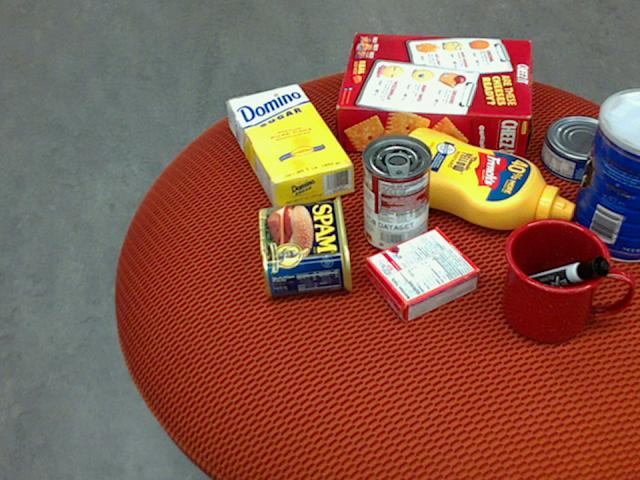cracker_box: (335, 31, 530, 159)
gelatin_box: (362, 229, 478, 323)
large_marker: (509, 254, 609, 297)
master_chef_can: (568, 88, 639, 262)
mug: (501, 217, 629, 343)
mustard_bottle: (384, 127, 573, 229)
potted_meat_can: (257, 194, 352, 297)
sugar_box: (225, 81, 354, 213)
tomato_soup_can: (360, 132, 430, 251)
tuna_fish_can: (539, 114, 621, 182)
